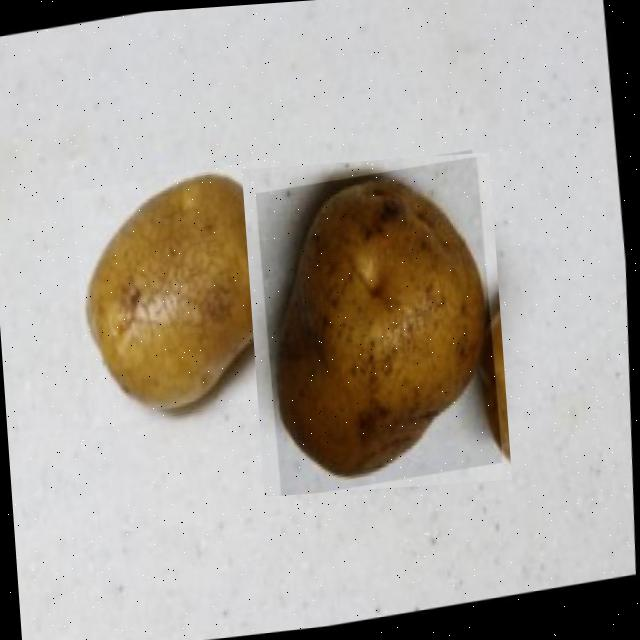Potato: (242, 152, 512, 496), (64, 158, 306, 429)
